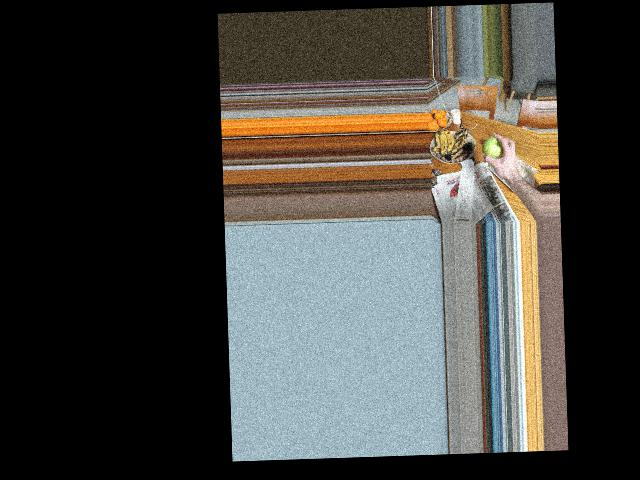apple: (481, 132, 505, 162)
